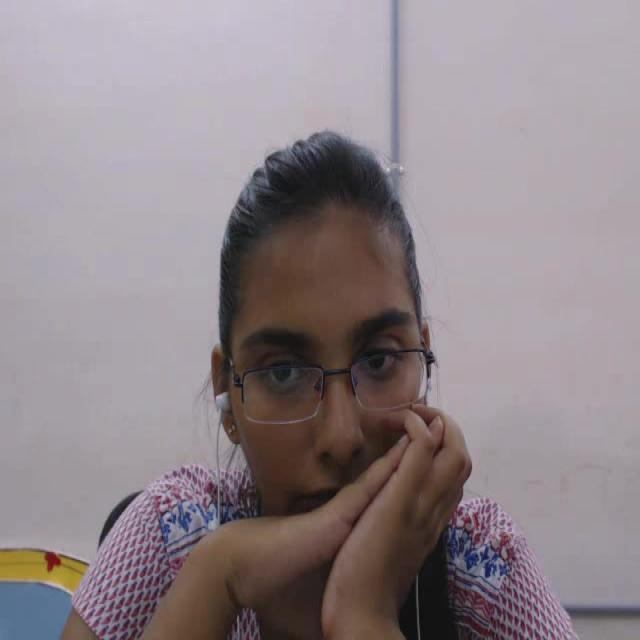Bored: (178, 99, 486, 576)
